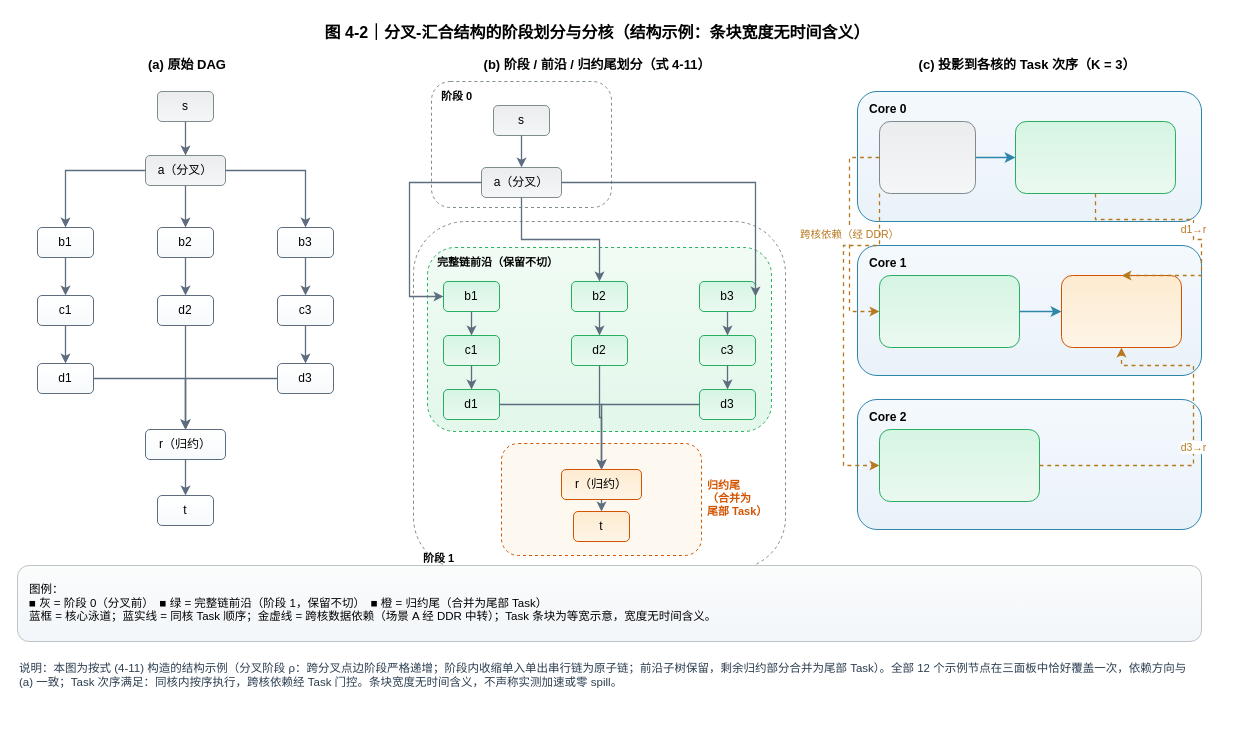
Some shapes in this 1235 by 752 pixel diagram are drawn without their labels. Here are the shapes that lost their labels. From the top down, the centre of each, then its label:
pixel 927 157: Task 0 s → a （阶段 0）
pixel 1095 157: Task 1 链1：b1→c1→d1 （前沿，阶段 1）
pixel 949 311: Task 2 链2：b2→d2 （前沿，阶段 1）
pixel 1121 311: Task 4 r → t（归约尾）
pixel 959 465: Task 3 链3：b3→c3→d3 （前沿，阶段 1）
